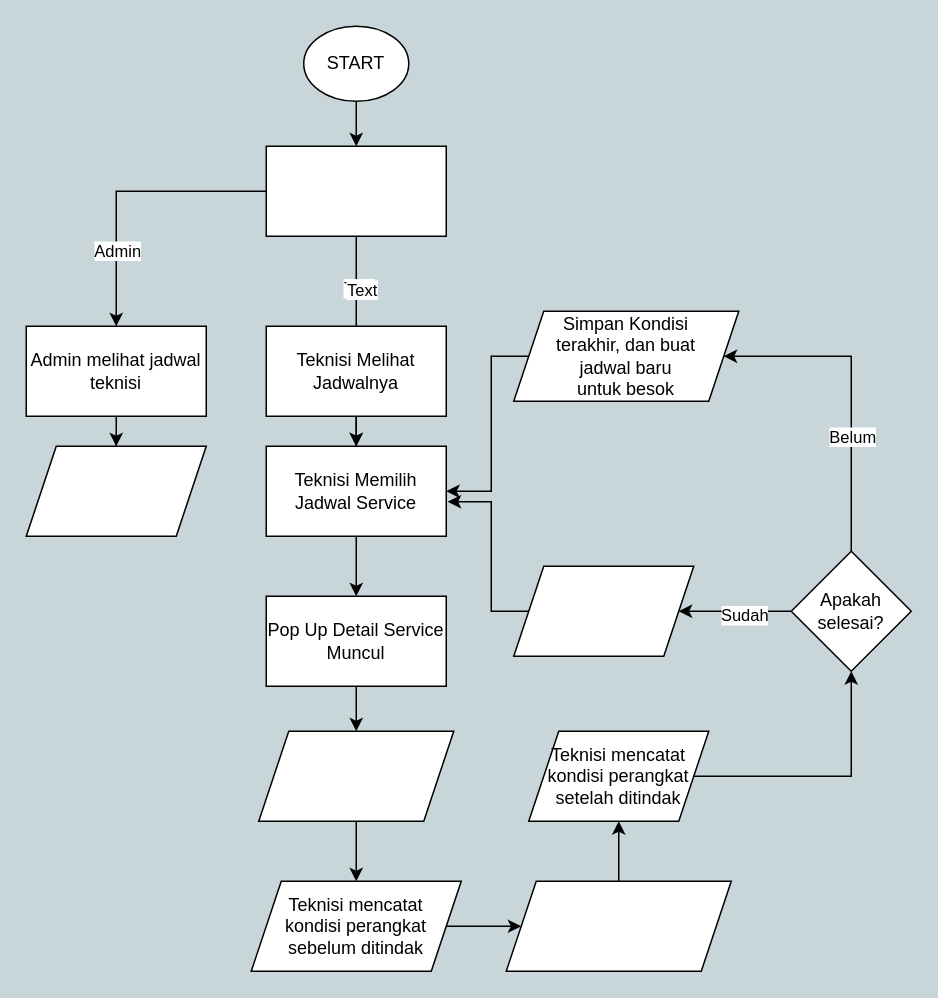
This 938x998 diagram has some shape labels left out. Here are the shapes that lost their labels. From the top down, the centre of each, then its label:
the point at 355,190: Login
the point at 115,490: Input Jadwal Baru
the point at 603,610: Simpan & tandai sebagai Selesai
the point at 355,775: Teknisi Memotret kondisi perangkat sebelum ditindak
the point at 618,925: Teknis memotret kondisi perangkat setelah dilakukan tindakan
